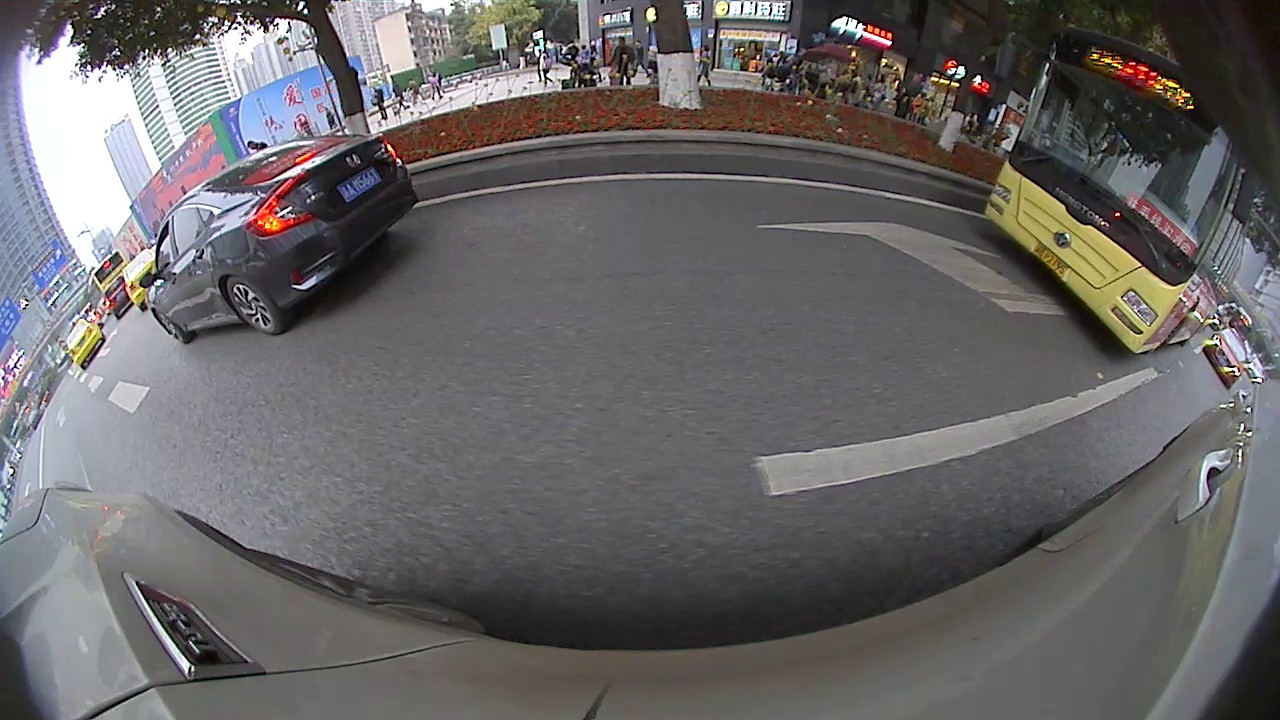bus: (981, 14, 1248, 362)
car: (143, 129, 423, 351), (118, 244, 172, 321), (1207, 324, 1254, 389), (63, 315, 104, 376)
front: (151, 310, 194, 347)
rear: (220, 275, 288, 335)
